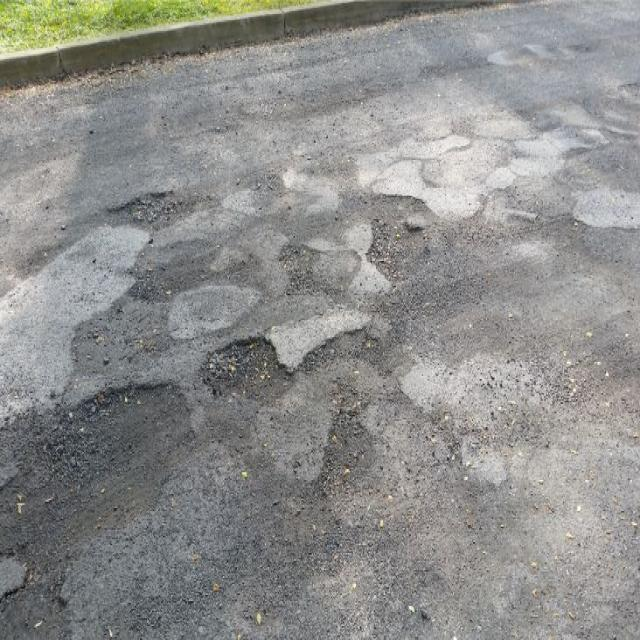pothole: (0, 378, 198, 554), (362, 186, 434, 283), (196, 332, 292, 402), (0, 562, 75, 634), (112, 184, 200, 232)
